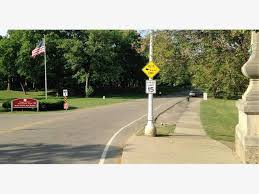speedLimit15: (144, 77, 156, 95)
